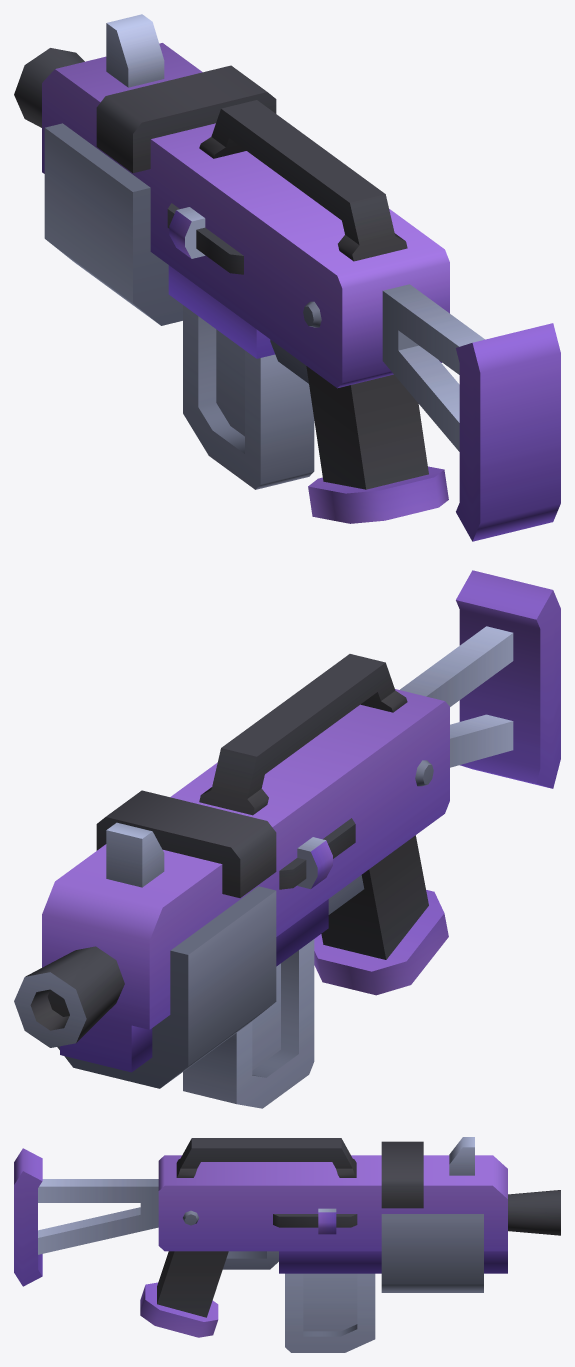
File: rifle.glb
3 renders of one model, top to bottom at view 1: azimuth 30°, elevation 25°; view 2: azimuth 150°, elevation 25°; view 3: azimuth 270°, elevation 25°, orthographic. The views are drawn at different scales.
Parts seen in each view (by area): view 1: blaster-d; view 2: blaster-d; view 3: blaster-d.
Part boxes in pixels (x1,y1,x2,y2): blaster-d: [14, 14, 560, 541]; blaster-d: [14, 570, 560, 1108]; blaster-d: [14, 1137, 560, 1352].
Size of the model in its own units: 0.165 by 0.3719 by 0.9079.
Materials: 1 (1 with a texture image).
